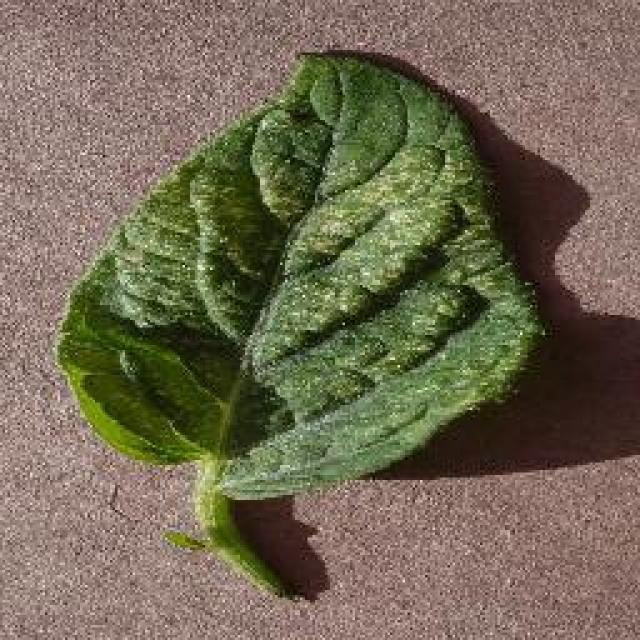Tomato spider mites leaf: (53, 46, 550, 496)
